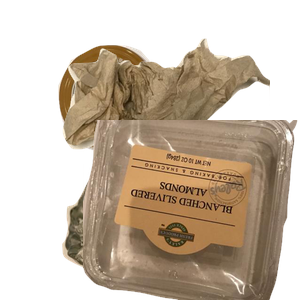glass: (60, 120, 300, 300)
metal: (56, 43, 211, 187)
plastic: (83, 120, 300, 300)
trash: (60, 36, 300, 198)
